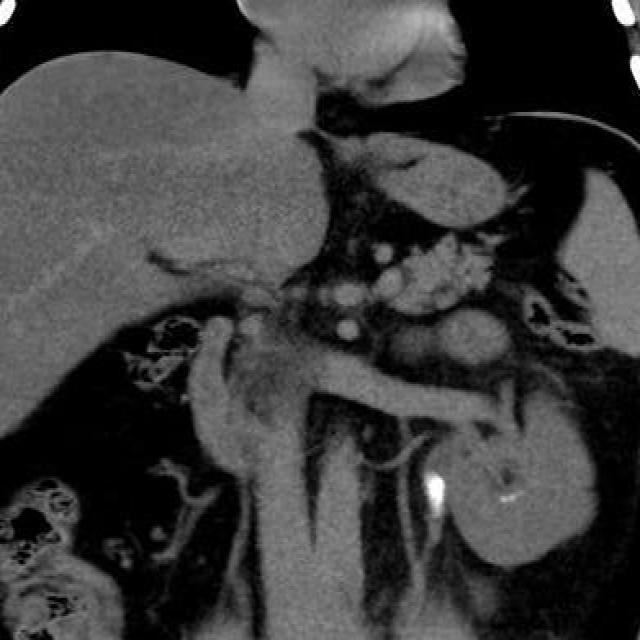Tas_Var: (423, 471, 453, 501), (493, 495, 509, 507), (431, 500, 448, 510), (508, 492, 518, 504)
